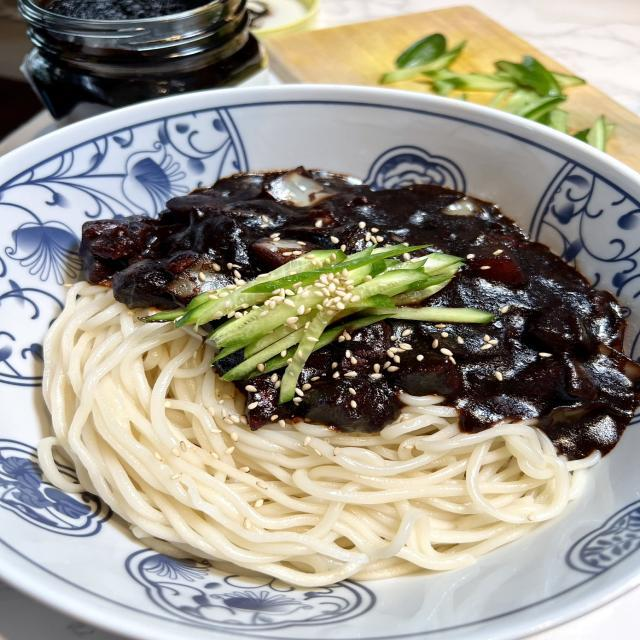cac loai rau cu: (201, 248, 500, 405), (236, 165, 350, 218)
mi jajangmyeon: (175, 448, 593, 587), (33, 284, 202, 547), (203, 372, 476, 447)
mi tuong den Jajangmyeon: (26, 158, 640, 585)
sot tuong den: (137, 100, 513, 304), (437, 234, 630, 433)
